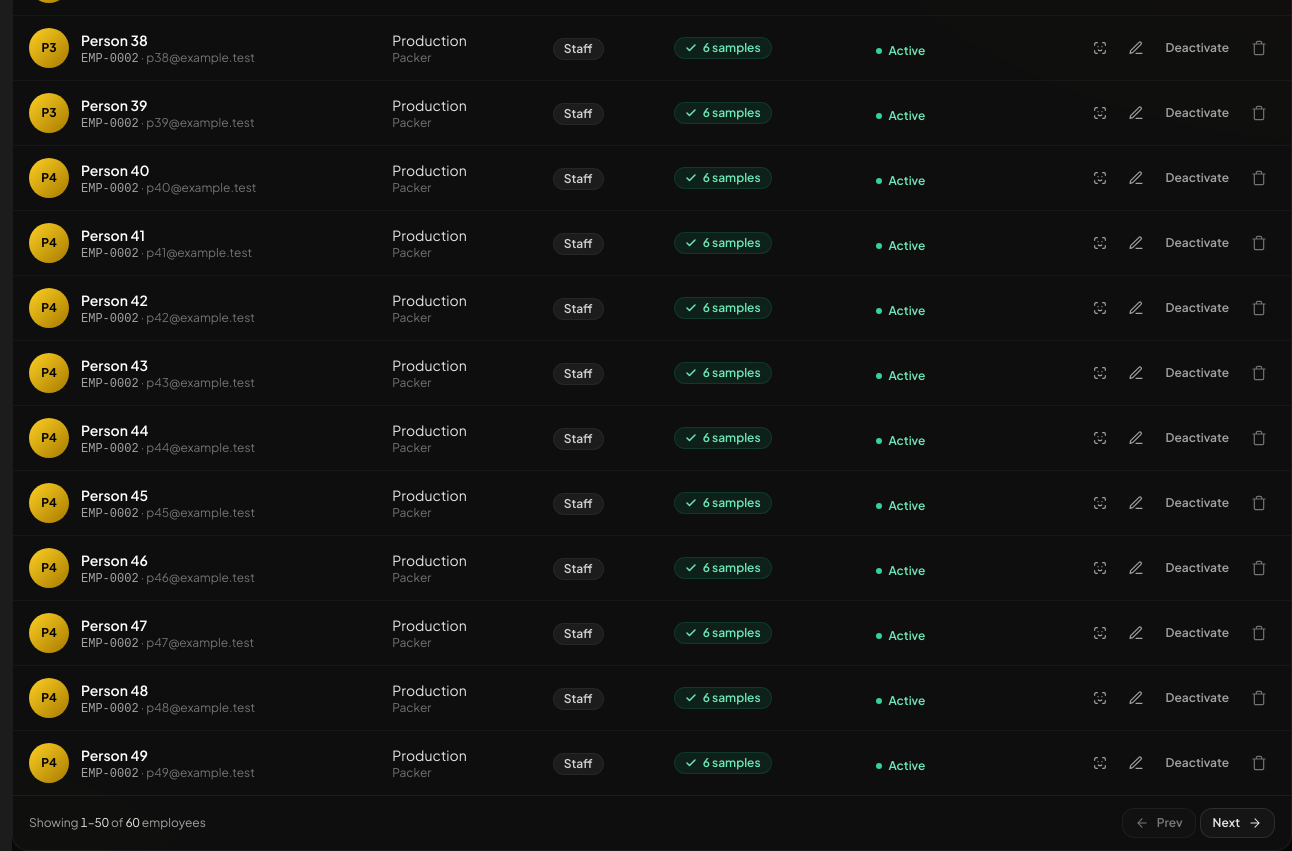
Scenario: Employees page › pages a long employee list
(page scrolled)
Expected: the text "Person 55" is not shown
Expected: the text "Showing 1–50 of 60 employees" is shown, [29, 815, 206, 831]
Click the button with aria-label "Next page" at (1237, 823), box [1200, 808, 1275, 838]
(page scrolled)
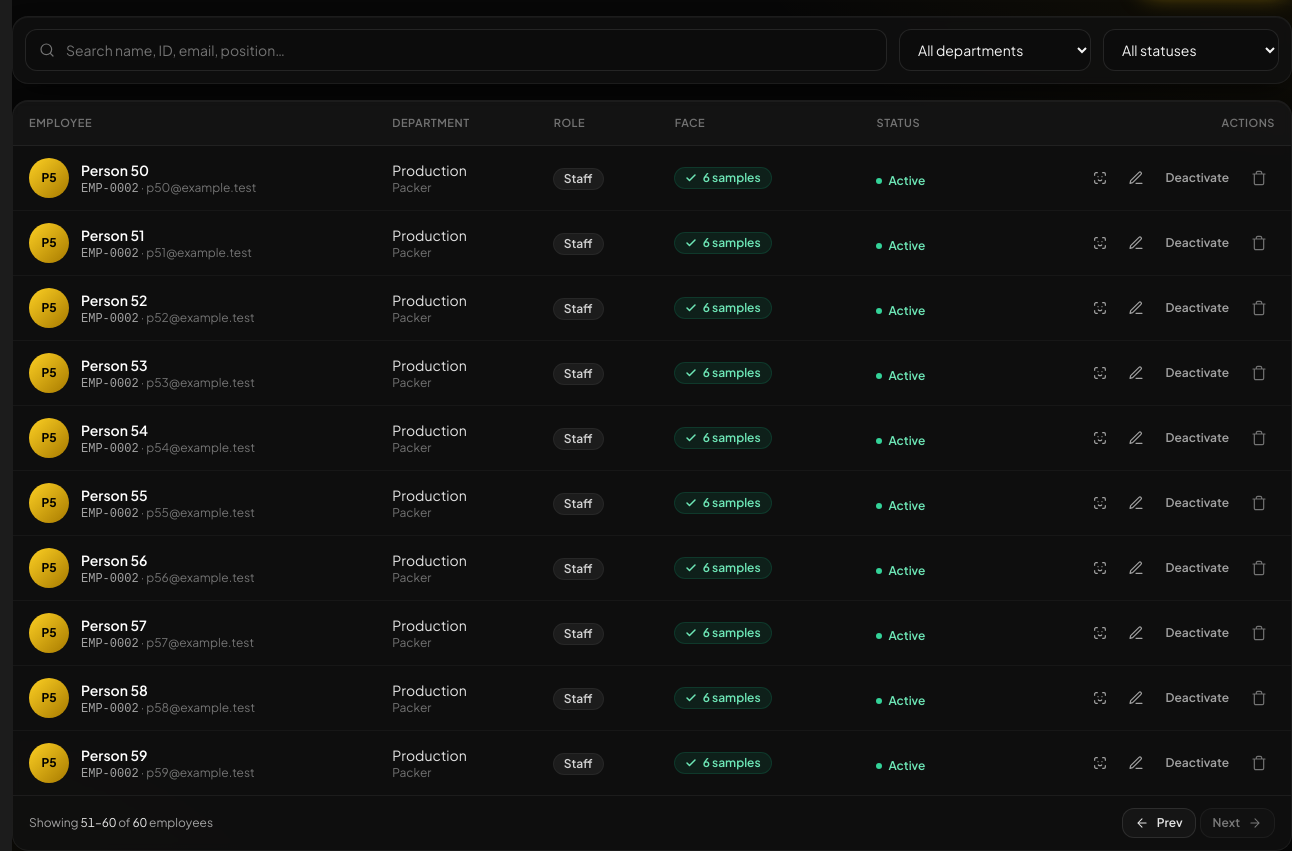
Now the text "Person 55" is shown, box [81, 486, 148, 504]
